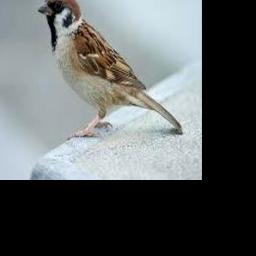Sparrow: (39, 0, 182, 137)
